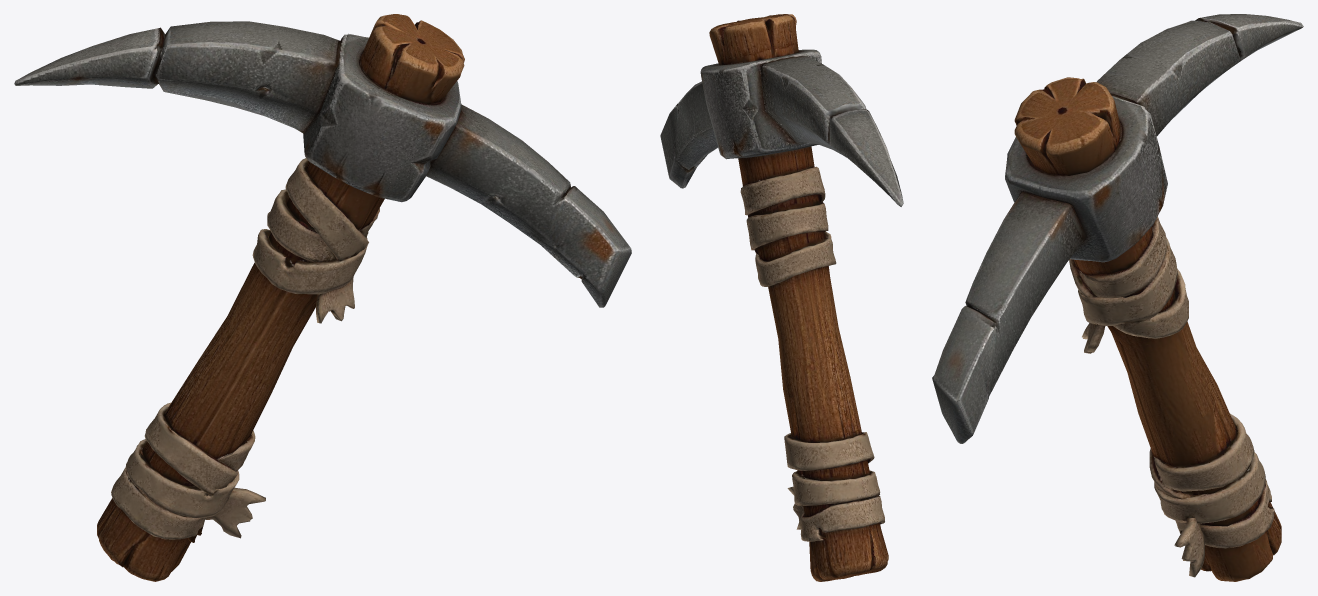
The model's file is shabby_pickaxe.fbx.
3 views of the same model, side by side, from view 1: azimuth 30°, elevation 25°; view 2: azimuth 150°, elevation 25°; view 3: azimuth 270°, elevation 25° (orthographic). The views are drawn at different scales.
Visible parts, largest first — view 1: tripo_node_e601b982; view 2: tripo_node_e601b982; view 3: tripo_node_e601b982.
Boxes of the visible parts, x1,y1,x2,y2 form: tripo_node_e601b982: (14, 14, 631, 581); tripo_node_e601b982: (660, 14, 903, 581); tripo_node_e601b982: (932, 14, 1303, 581).
Size of the model in its own units: 0.834 by 0.998 by 0.5879.
Materials: 1 (1 with a texture image).
